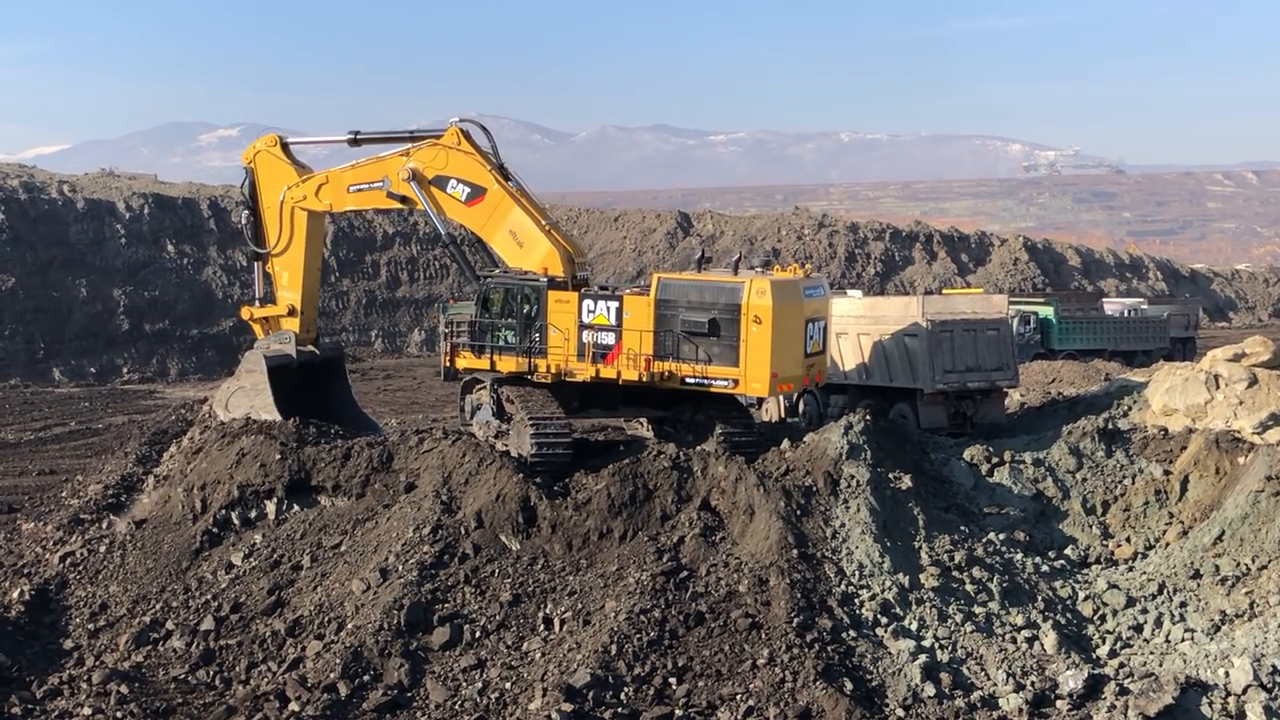empty: (214, 332, 396, 451)
